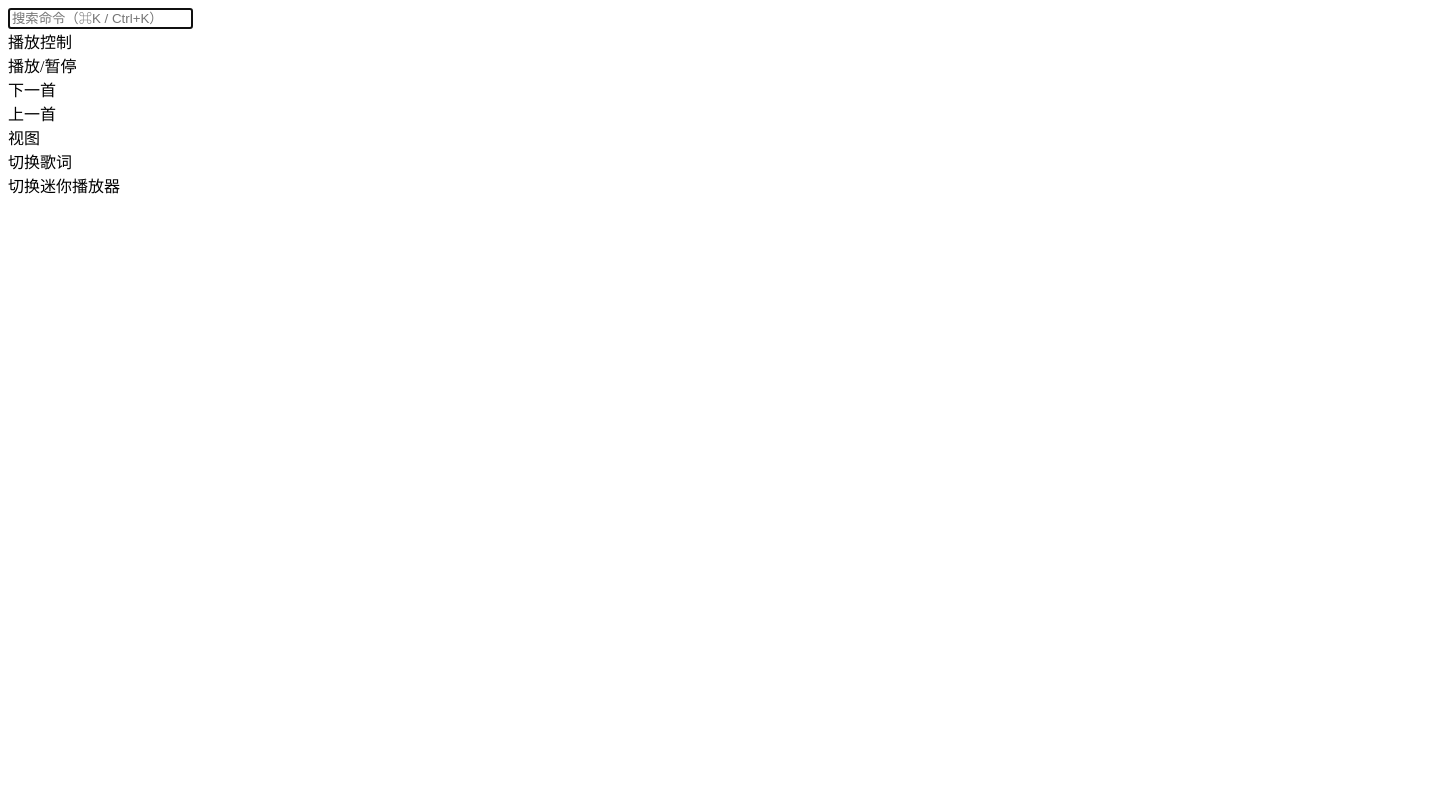
Scenario: CmdKPalette 过滤 › 输入命中 item value 时保留命中项、过滤未命中项（cmdk 默认过滤）
The width and height of the screenshot is (1440, 810).
Type "lyrics" into the dropdown with placeholder "搜索命令（⌘K / Ctrl+K）".
click(100, 18); type("lyrics")  # box [8,8,193,29]
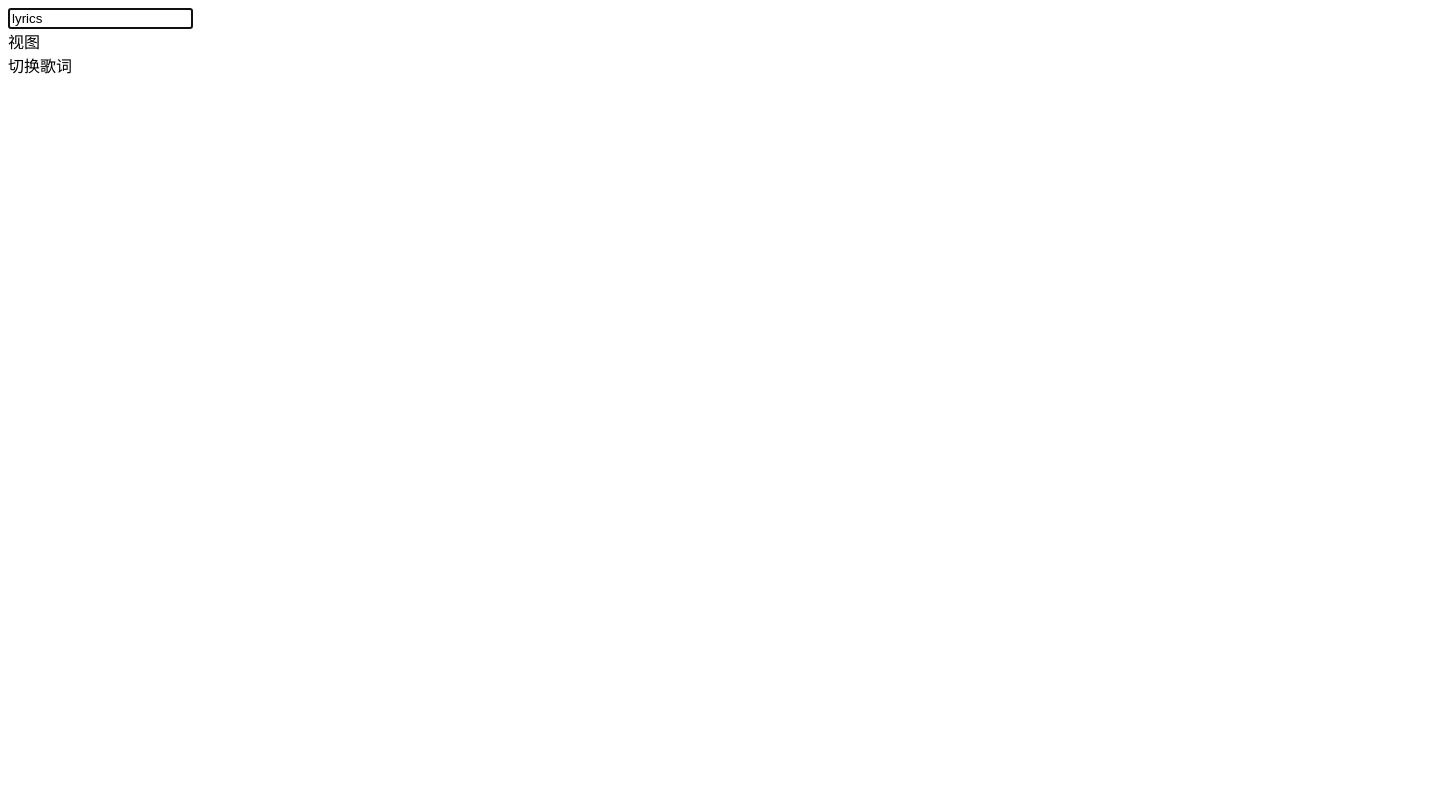
Expected: the option "切换歌词" is shown, [8,58,72,75]
Expected: the option "播放/暂停" is gone
